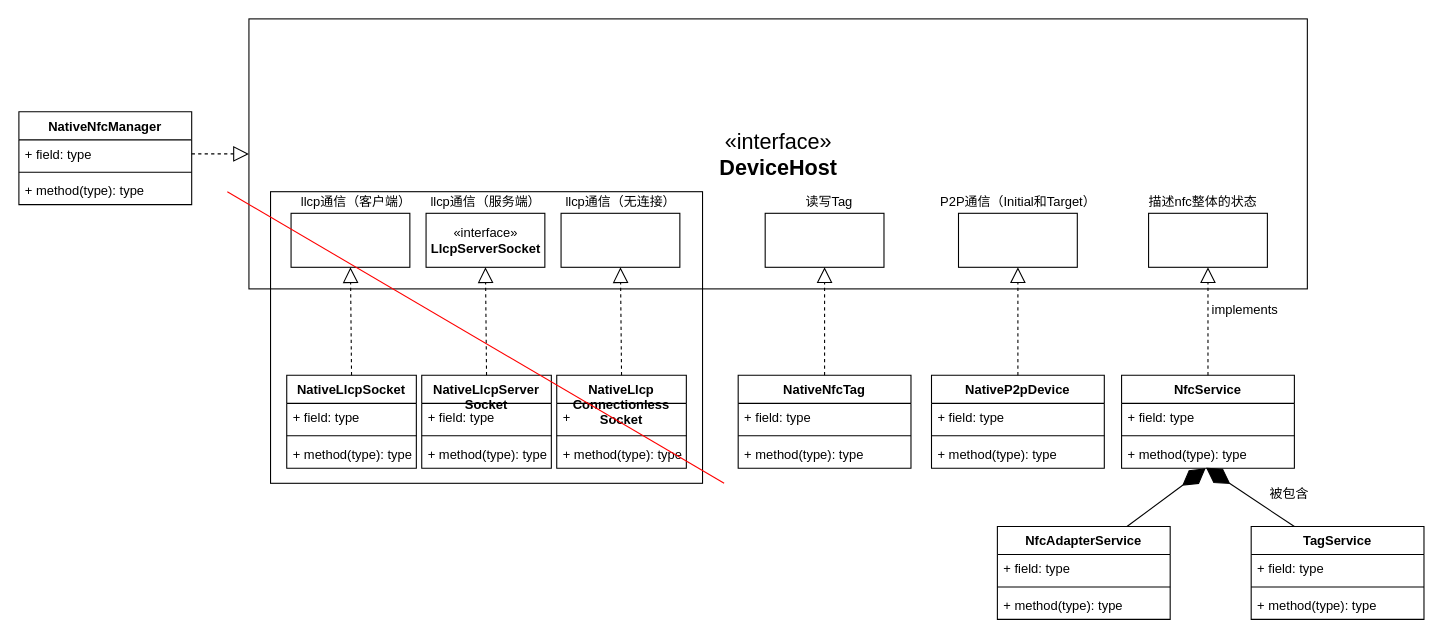
Some shapes in this 1443 by 642 pixel diagram are drawn without their labels. The centre of each missing label's shape, as x and y in pixels:
«interface» DeviceHostListener: pixel 1207 239
«interface» LlcpConnectionless Socket: pixel 620 239
«interface» LlcpSocket: pixel 350 239
«interface» NfcDepEndpoint: pixel 1017 239
«interface» TagEndpoint: pixel 824 239
